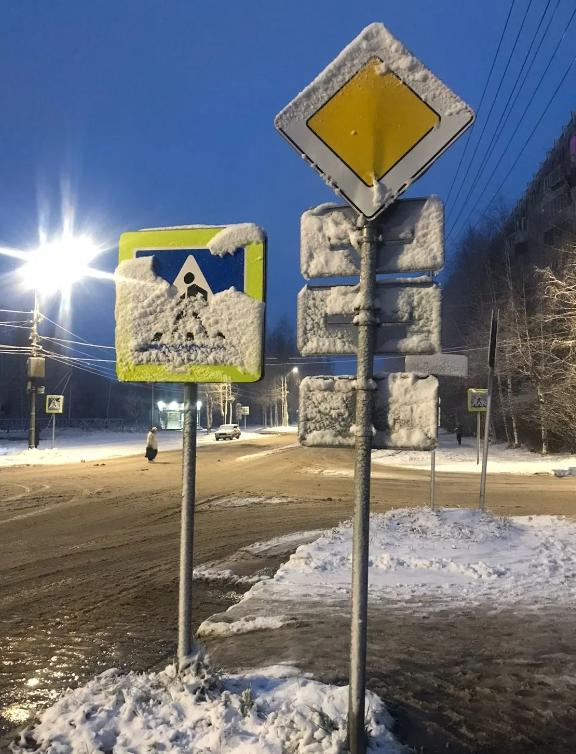obstructed_road_sign: (275, 23, 474, 220), (115, 224, 266, 382), (468, 389, 489, 412), (46, 395, 64, 414)
